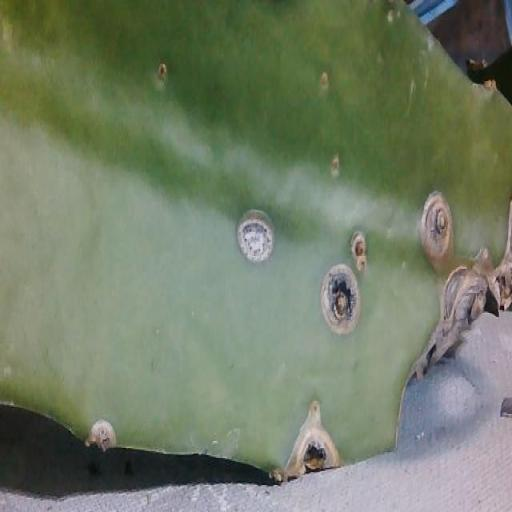stemcanker: (297, 50, 349, 129), (312, 141, 366, 197)
